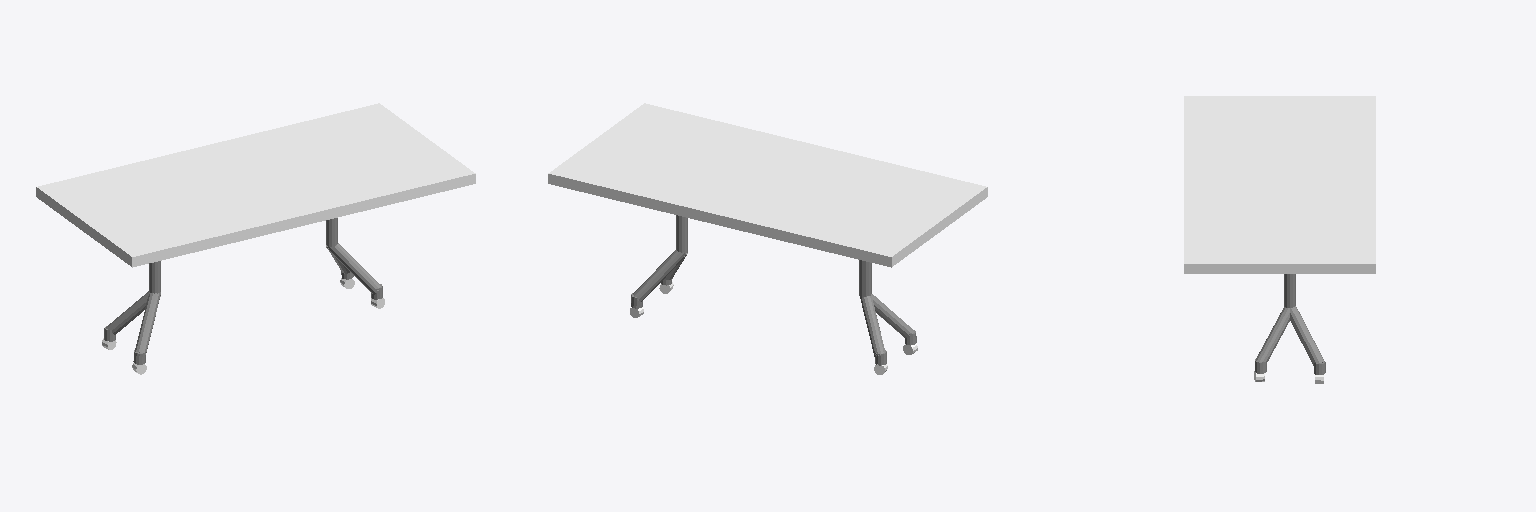
3 views of the same model, side by side, from view 1: azimuth 30°, elevation 25°; view 2: azimuth 150°, elevation 25°; view 3: azimuth 270°, elevation 25° (orthographic).
Parts seen in each view (by area): view 1: group[number redacted], group[number redacted], group[number redacted], group[number redacted]; view 2: group[number redacted], group[number redacted], group[number redacted], group[number redacted]; view 3: group[number redacted], group[number redacted], group[number redacted].
Boxes of the visible parts, x1,y1,x2,y2 form: group[number redacted]: [36, 103, 475, 267]; group[number redacted]: [326, 243, 380, 294]; group[number redacted]: [135, 292, 160, 354]; group[number redacted]: [106, 291, 160, 334]; group[number redacted]: [548, 103, 987, 267]; group[number redacted]: [633, 250, 686, 301]; group[number redacted]: [860, 296, 884, 357]; group[number redacted]: [871, 294, 914, 337]; group[number redacted]: [1184, 96, 1375, 273]; group[number redacted]: [1290, 306, 1324, 365]; group[number redacted]: [1256, 307, 1289, 362].
Size of the model in its own units: 1.52 by 0.6419 by 0.7378.